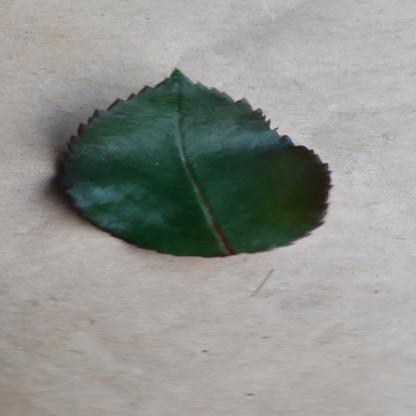normal: (46, 67, 344, 258)
